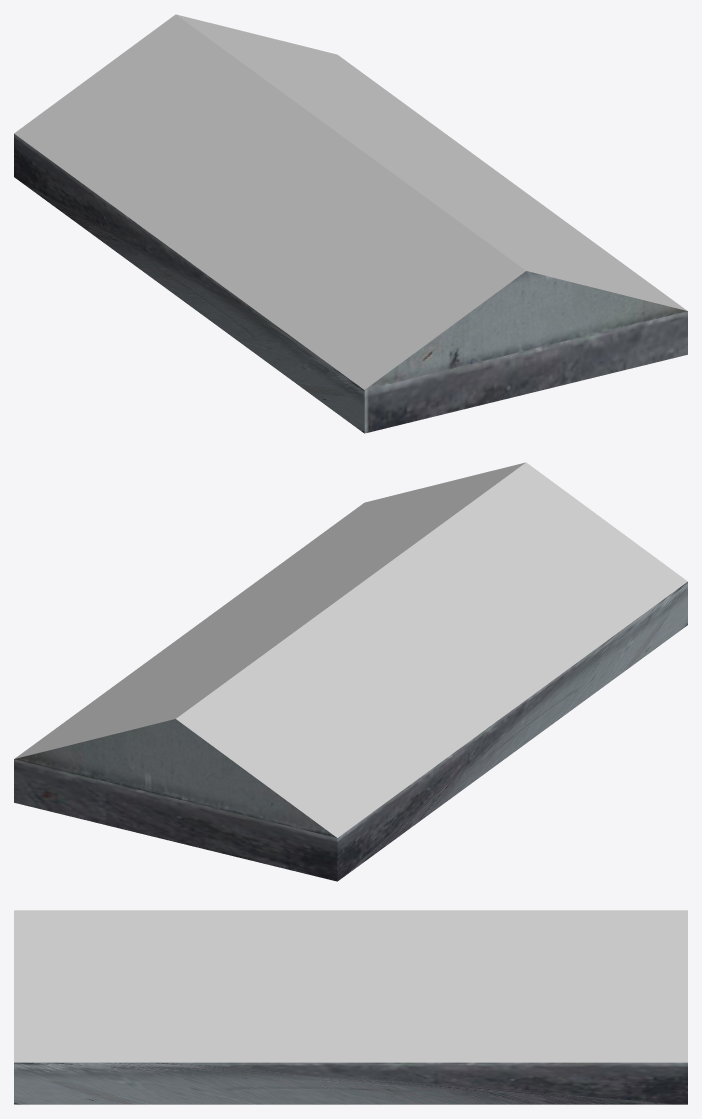
The model's file is Long_window1.fbx.
The picture shows the model from 3 angles, top to bottom: view 1: azimuth 30°, elevation 25°; view 2: azimuth 150°, elevation 25°; view 3: azimuth 270°, elevation 25°; orthographic projection. The views are drawn at different scales.
Parts seen in each view (by area): view 1: Long_window1; view 2: Long_window1; view 3: Long_window1.
Boxes of the visible parts, left/top/right/bottom form: Long_window1: left=14, top=14, right=687, bottom=433; Long_window1: left=14, top=462, right=687, bottom=881; Long_window1: left=14, top=910, right=687, bottom=1104.
Bounding box in the file's own units: 326 × 119 × 613.
